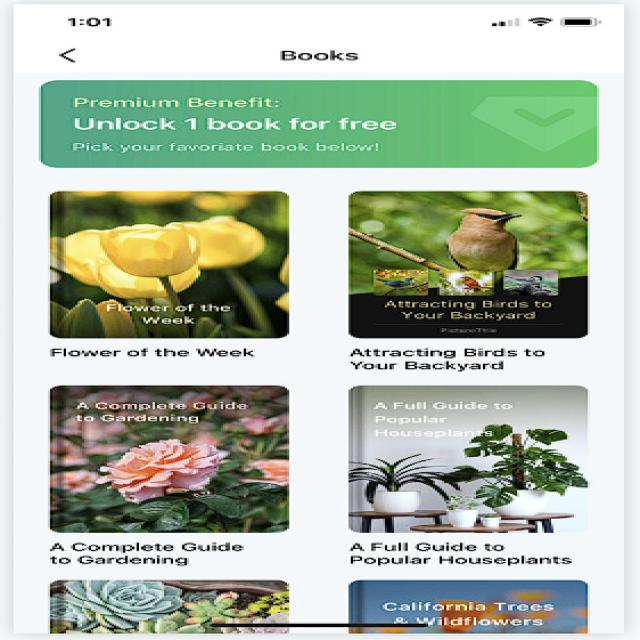column: (21, 175, 332, 640), (328, 176, 640, 638)
icon button: (46, 42, 118, 75)
image: (38, 180, 307, 342), (342, 378, 612, 535), (342, 178, 596, 342), (40, 381, 308, 536)
row: (6, 370, 640, 572), (12, 169, 628, 375), (15, 70, 612, 174)
text: (66, 90, 419, 154), (339, 535, 592, 569), (46, 536, 278, 568), (351, 343, 574, 373), (41, 344, 282, 365), (268, 46, 385, 71)
